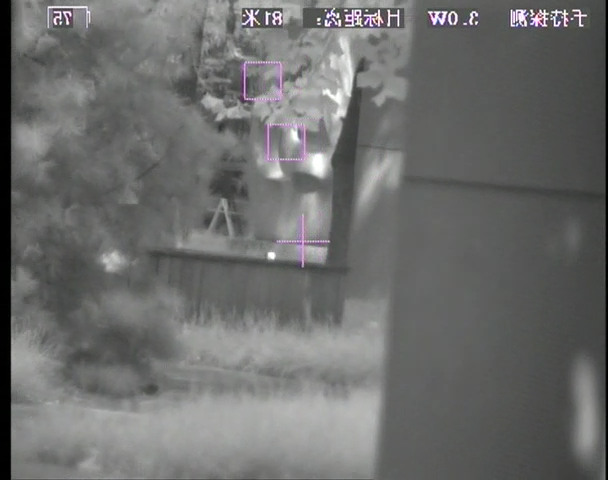my: (265, 250, 275, 260)
